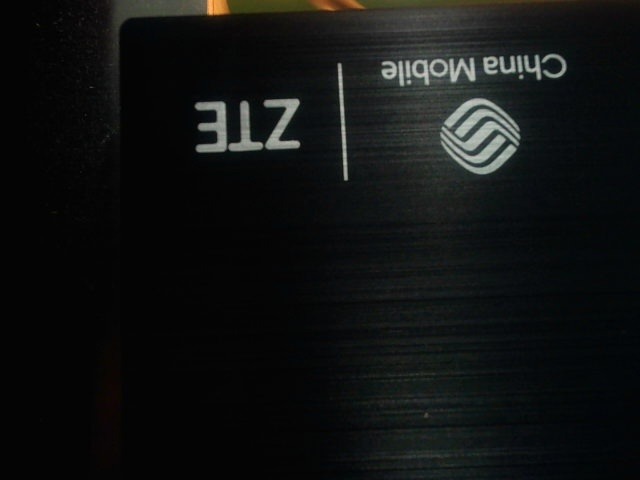AL_ZTEChinaMobile: (180, 43, 578, 190)
